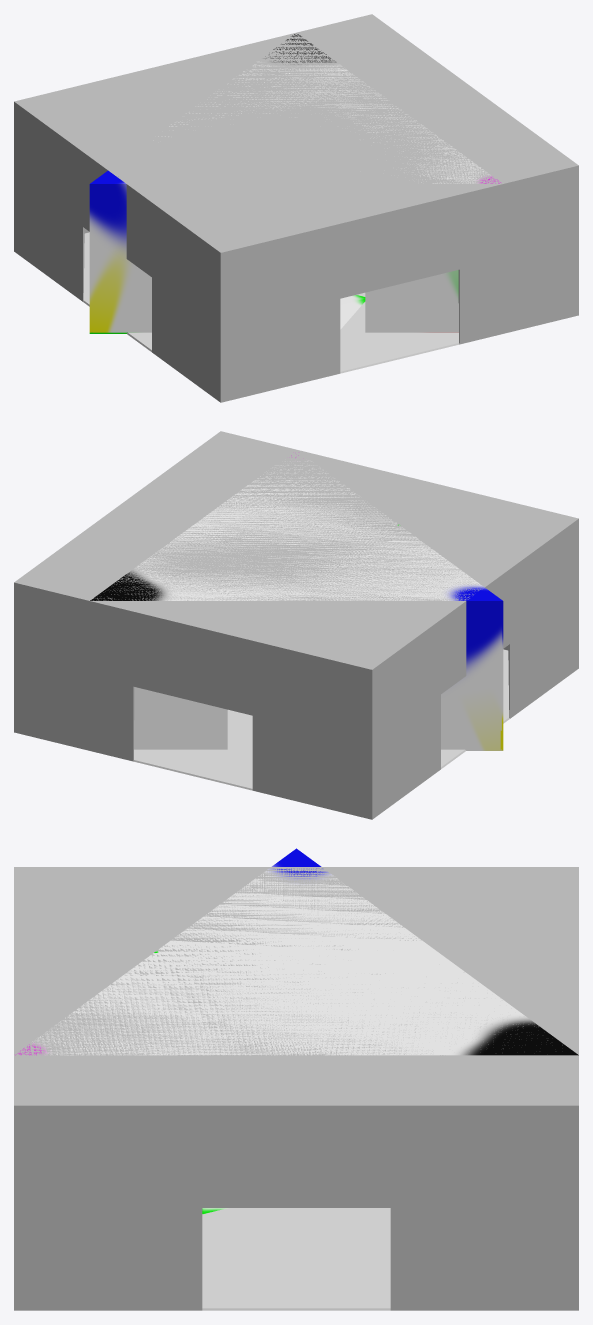
The model's file is boxroom.fbx.
The picture shows the model from 3 angles, top to bottom: view 1: azimuth 30°, elevation 25°; view 2: azimuth 150°, elevation 25°; view 3: azimuth 270°, elevation 25°; orthographic projection. The views are drawn at different scales.
Parts seen in each view (by area): view 1: Plane, Plane.001; view 2: Plane, Plane.001; view 3: Plane, Plane.001.
Part boxes in pixels (left/top/right/bottom): Plane: left=14, top=14, right=578, bottom=402; Plane.001: left=89, top=34, right=500, bottom=333; Plane: left=14, top=431, right=578, bottom=819; Plane.001: left=90, top=455, right=503, bottom=750; Plane: left=14, top=867, right=578, bottom=1310; Plane.001: left=15, top=848, right=578, bottom=1213.
Bounding box in the file's own units: 500 × 200 × 539.
